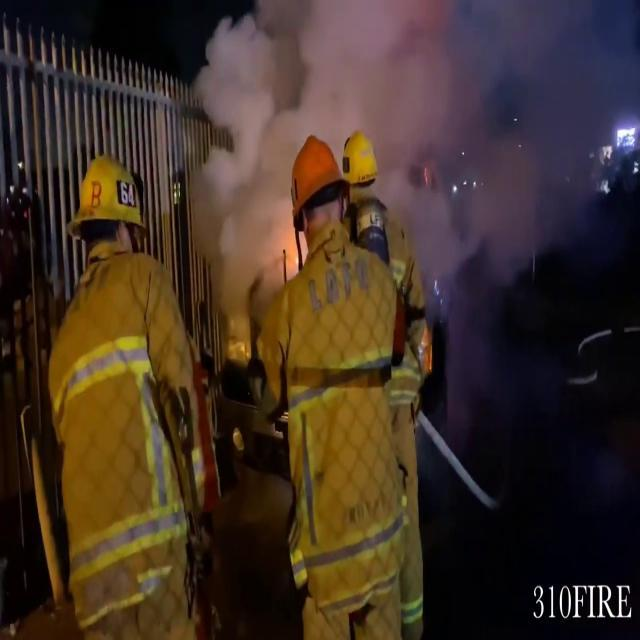Smoke: (192, 2, 483, 294)
